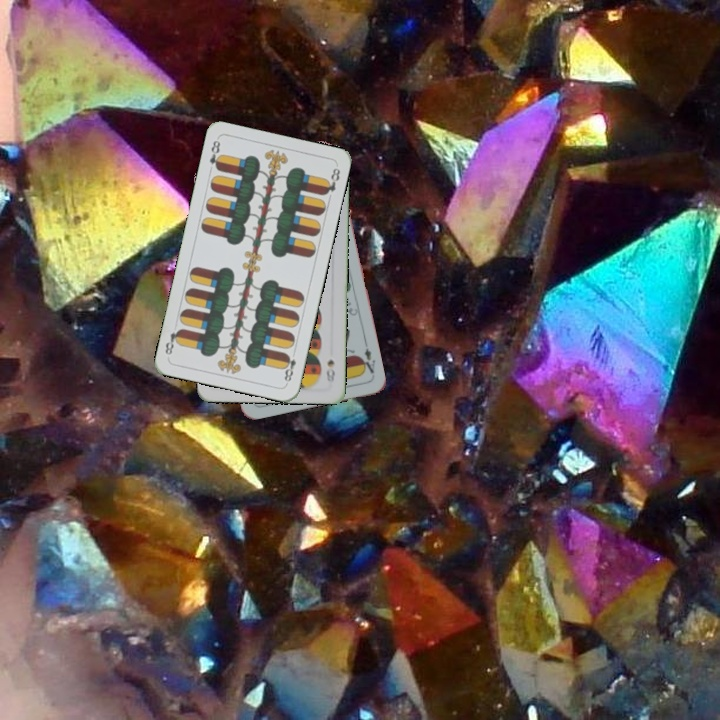E8: (205, 136, 225, 173), (280, 350, 299, 386)
EA: (356, 339, 378, 376)
S8: (322, 355, 337, 386)
